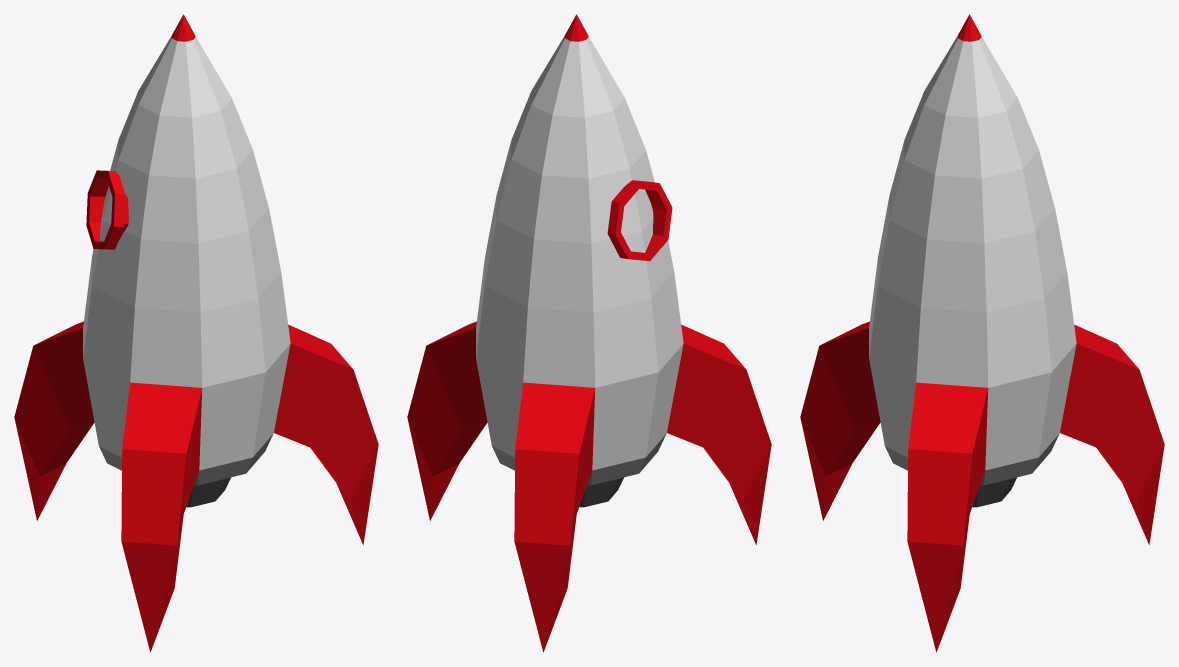
Rendered from RocketFun.fbx.
3 renders of one model, left to right at view 1: azimuth 30°, elevation 25°; view 2: azimuth 150°, elevation 25°; view 3: azimuth 270°, elevation 25°, orthographic.
Visible parts, largest first — view 1: Rocket; view 2: Rocket; view 3: Rocket.
Boxes of the visible parts, <box> form: Rocket: <box>14,14,378,652</box>; Rocket: <box>407,14,771,652</box>; Rocket: <box>800,14,1164,652</box>.
Size of the model in its own units: 385 by 684 by 404.
